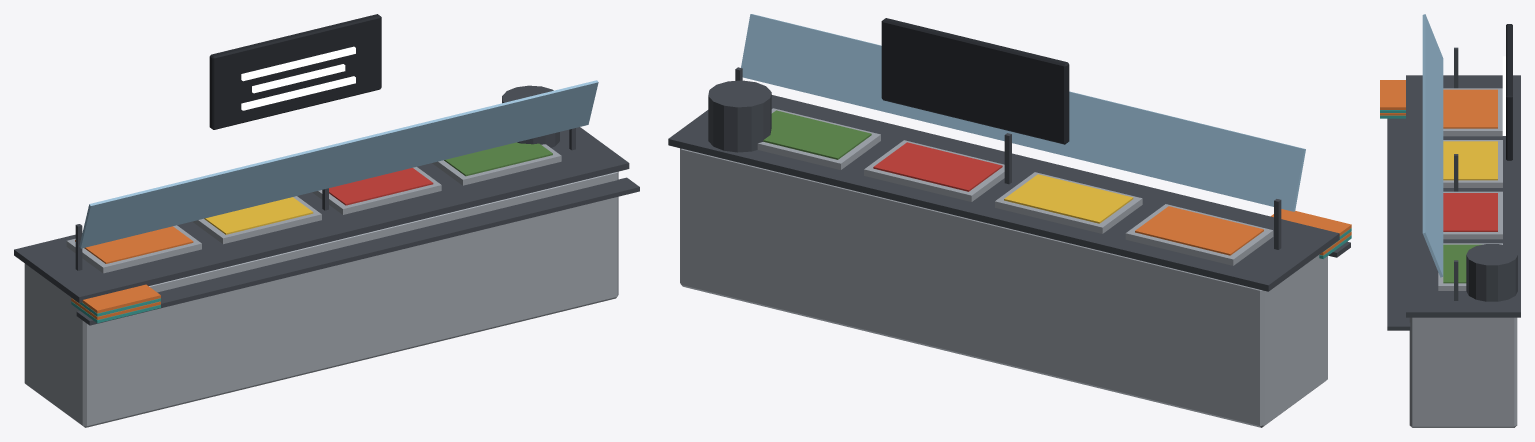
The model's file is food_counter.glb.
3 views of the same model, side by side, from view 1: azimuth 30°, elevation 25°; view 2: azimuth 150°, elevation 25°; view 3: azimuth 270°, elevation 25° (orthographic). The views are drawn at different scales.
Parts seen in each view (by area): view 1: food_counter_mesh; view 2: food_counter_mesh; view 3: food_counter_mesh.
Part boxes in pixels (box(x1,y1,x2,y2)): food_counter_mesh: box(14, 14, 639, 427); food_counter_mesh: box(668, 14, 1351, 427); food_counter_mesh: box(1380, 14, 1520, 427).
Bounding box in the file's own units: 3.9 × 1.95 × 0.98.
